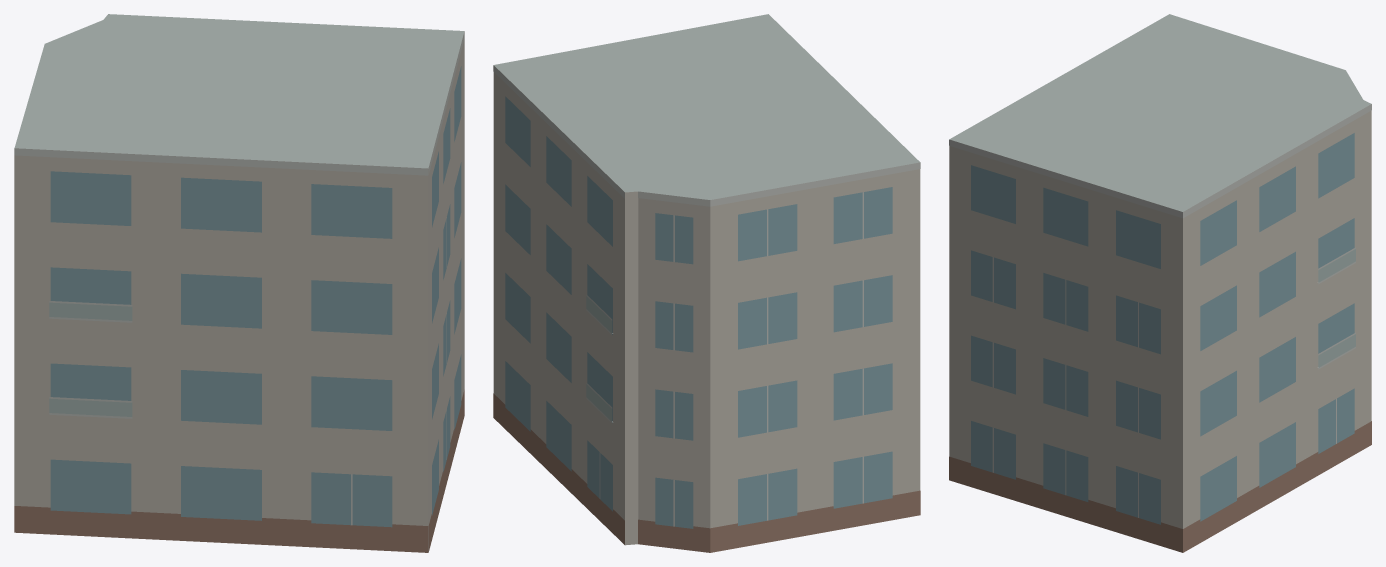
File: survey-upis-32620310.glb
The picture shows the model from 3 angles, left to right: view 1: azimuth 30°, elevation 25°; view 2: azimuth 150°, elevation 25°; view 3: azimuth 270°, elevation 25°; orthographic projection. The views are drawn at different scales.
Parts seen in each view (by area): view 1: survey-upis-32620310.tmp; view 2: survey-upis-32620310.tmp; view 3: survey-upis-32620310.tmp.
Boxes of the visible parts, x1,y1,x2,y2 form: survey-upis-32620310.tmp: (14,14,464,552); survey-upis-32620310.tmp: (493,14,920,552); survey-upis-32620310.tmp: (949,14,1371,552).
Bounding box in the file's own units: 16.27 × 13.05 × 14.67.
